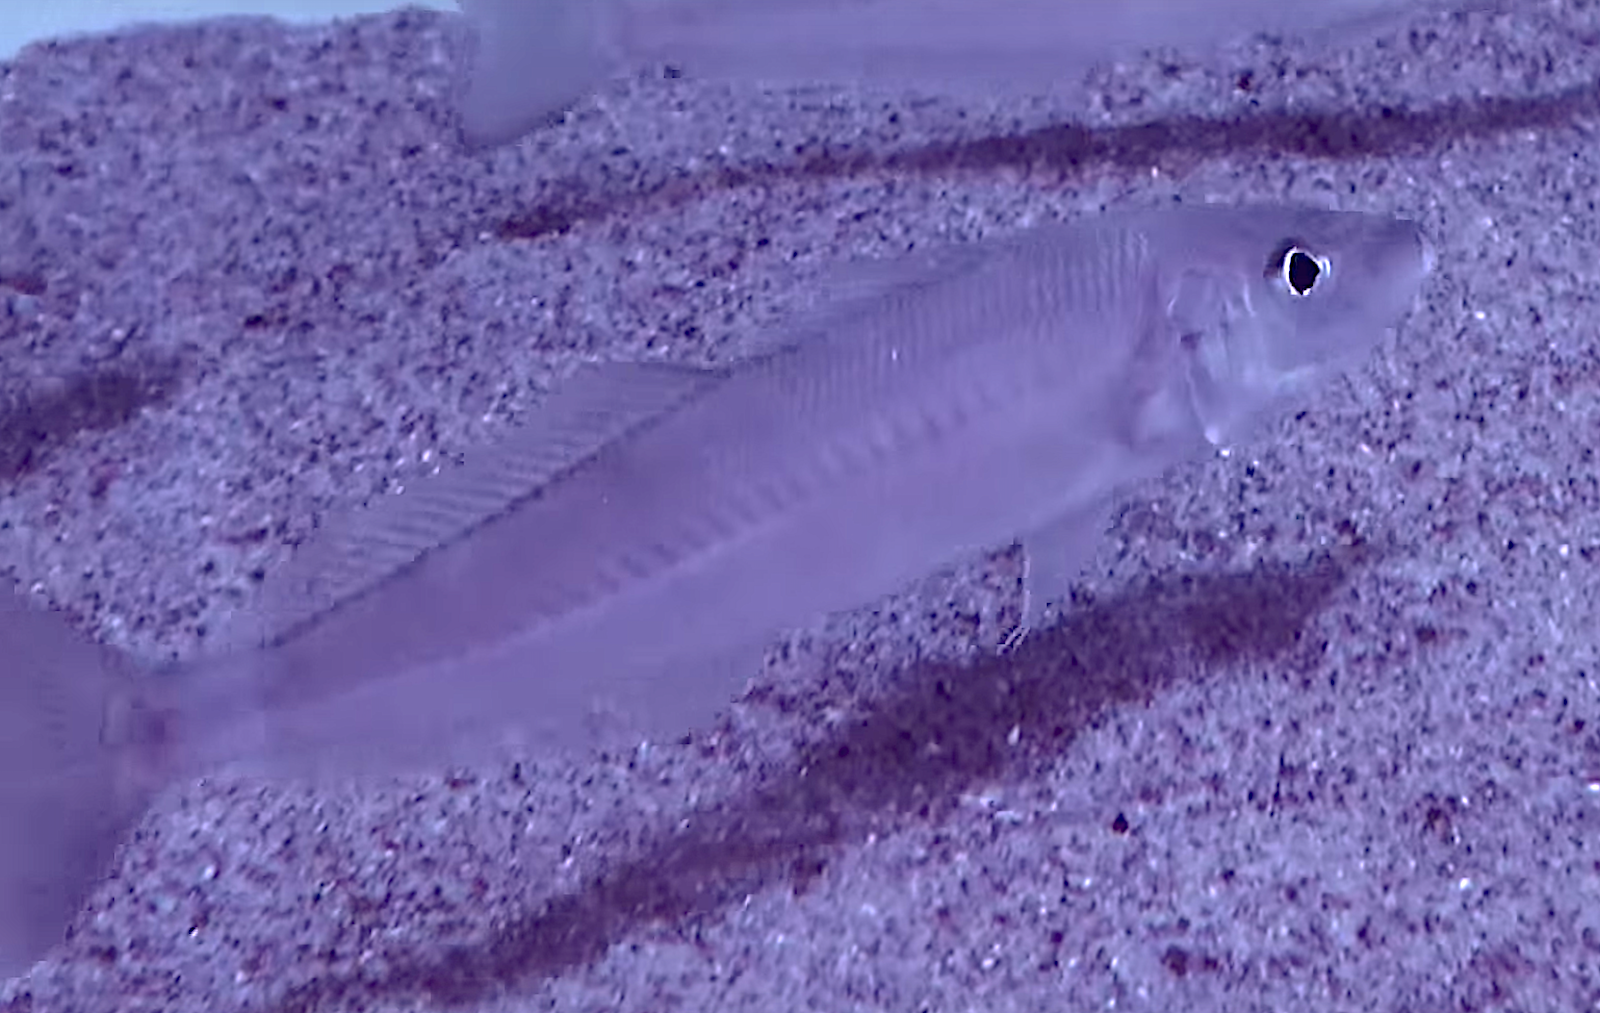kiss: (52, 175, 1453, 912)
